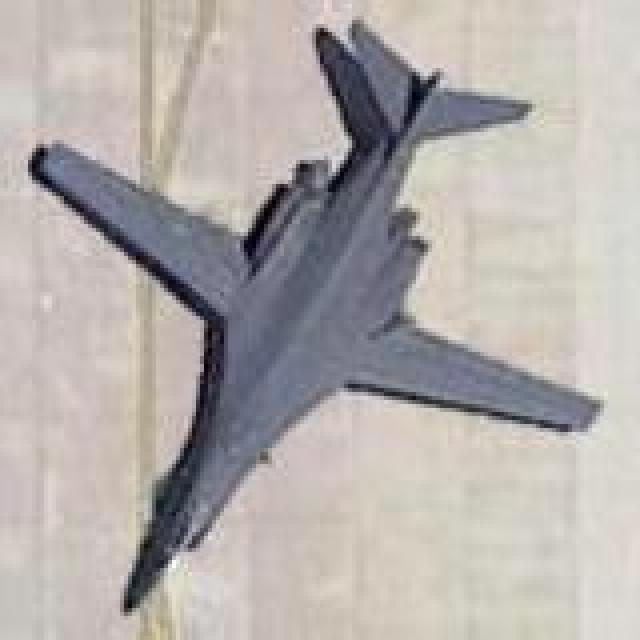B-1_TopDown: (24, 12, 604, 616)
